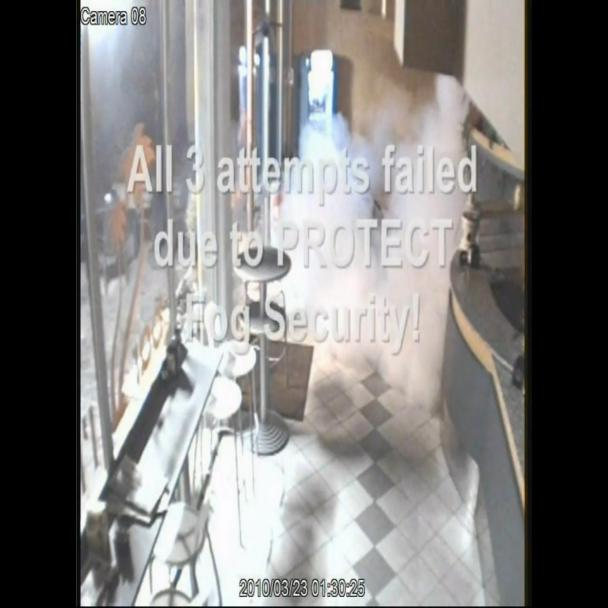smoke: (169, 15, 489, 521)
